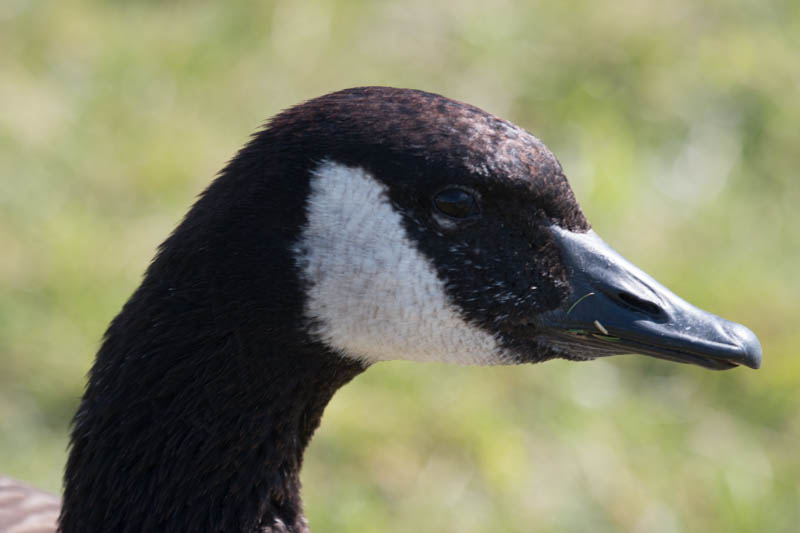goose-head: (232, 85, 762, 370)
